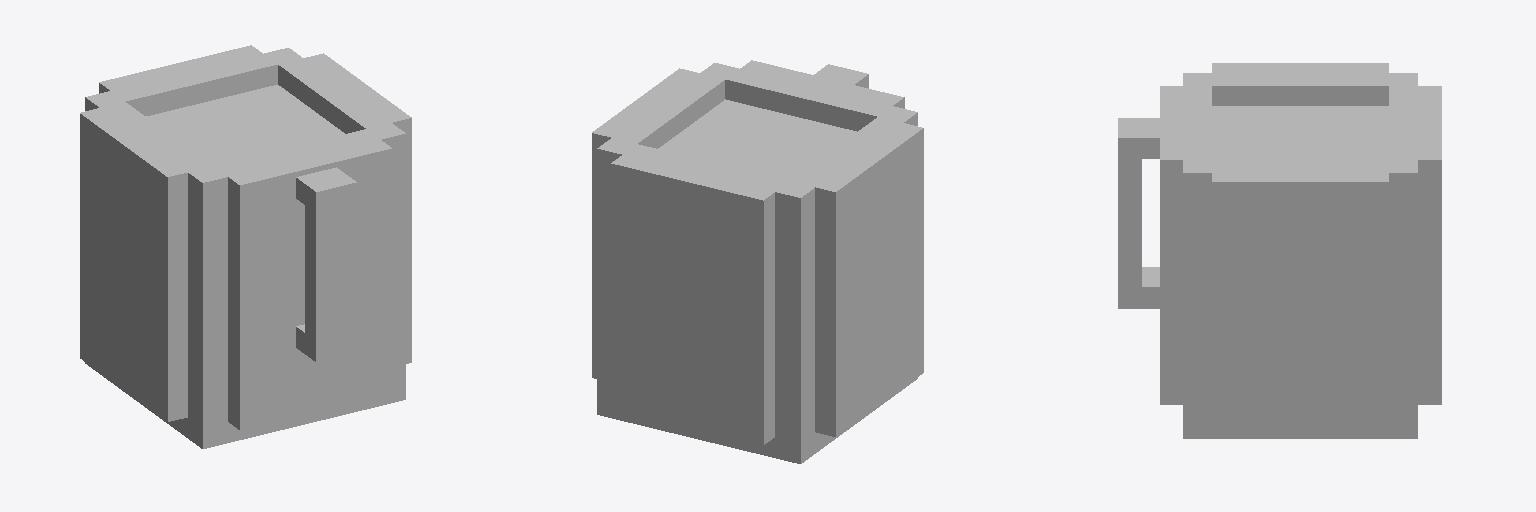
The model's file is mug_10.obj.
3 renders of one model, left to right at view 1: azimuth 30°, elevation 25°; view 2: azimuth 150°, elevation 25°; view 3: azimuth 270°, elevation 25°, orthographic.
Visible parts, largest first — view 1: cube; view 2: cube; view 3: cube.
Part boxes in pixels (bbox=[...]): cube: bbox=[80, 45, 411, 448]; cube: bbox=[592, 60, 923, 463]; cube: bbox=[1118, 63, 1441, 438].
Bounding box in the file's own units: 0.6 × 0.625 × 0.6875.